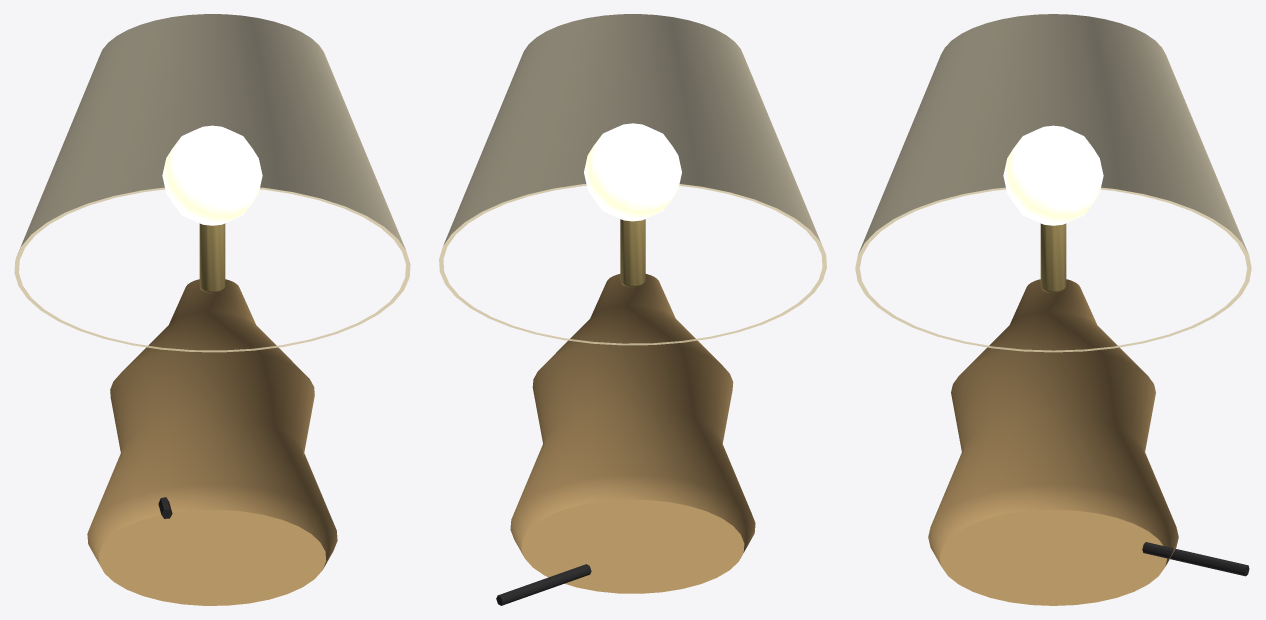
Rendered from DenNgu_Nhim.glb.
3 views of the same model, side by side, from view 1: azimuth 30°, elevation 25°; view 2: azimuth 150°, elevation 25°; view 3: azimuth 270°, elevation 25° (orthographic). The views are drawn at different scales.
Parts seen in each view (by area): view 1: DenNgu_Nhim; view 2: DenNgu_Nhim; view 3: DenNgu_Nhim.
Boxes of the visible parts, box(x1,y1,x2,y2) form: DenNgu_Nhim: box(14, 14, 410, 605); DenNgu_Nhim: box(439, 14, 826, 605); DenNgu_Nhim: box(855, 14, 1251, 605).
Size of the model in its own units: 0.174 by 0.24 by 0.174.
